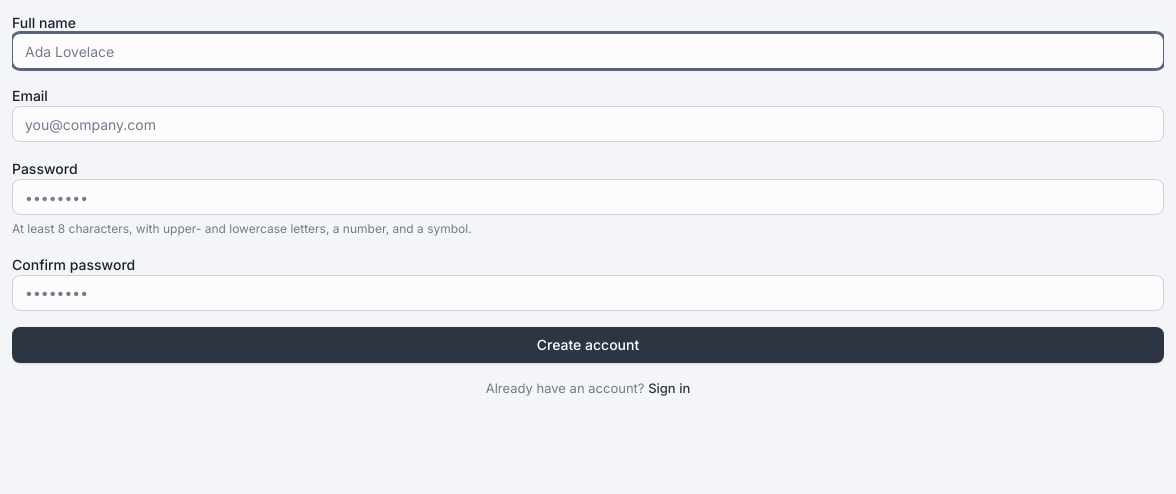
Scenario: RegisterForm › requires a first and last name
The image size is (1176, 494).
Type "Ada" into the field labelled "Full name" at (588, 51), box [12,33,1164,69]
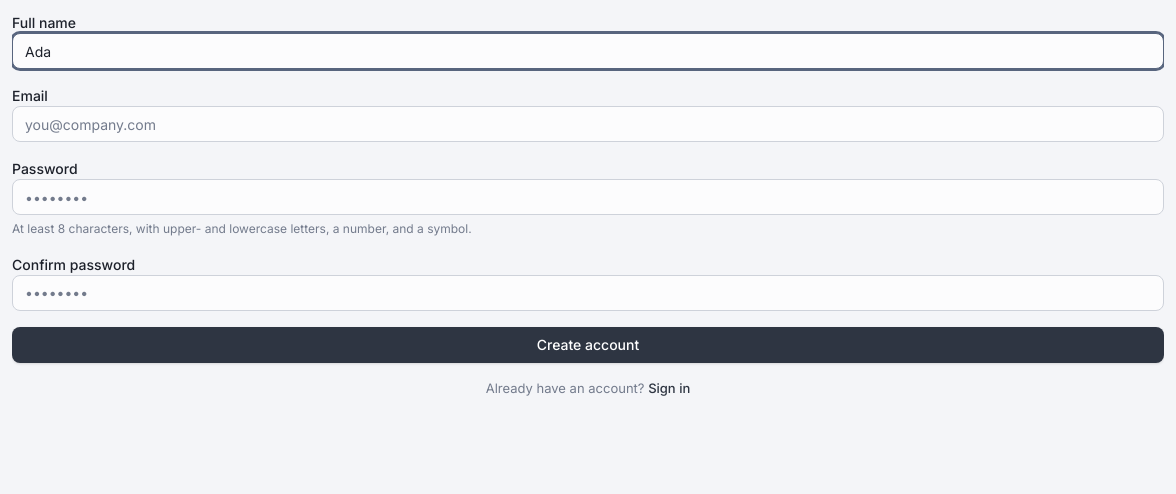
Click the button "Create account" at (588, 345), box [12,327,1164,363]
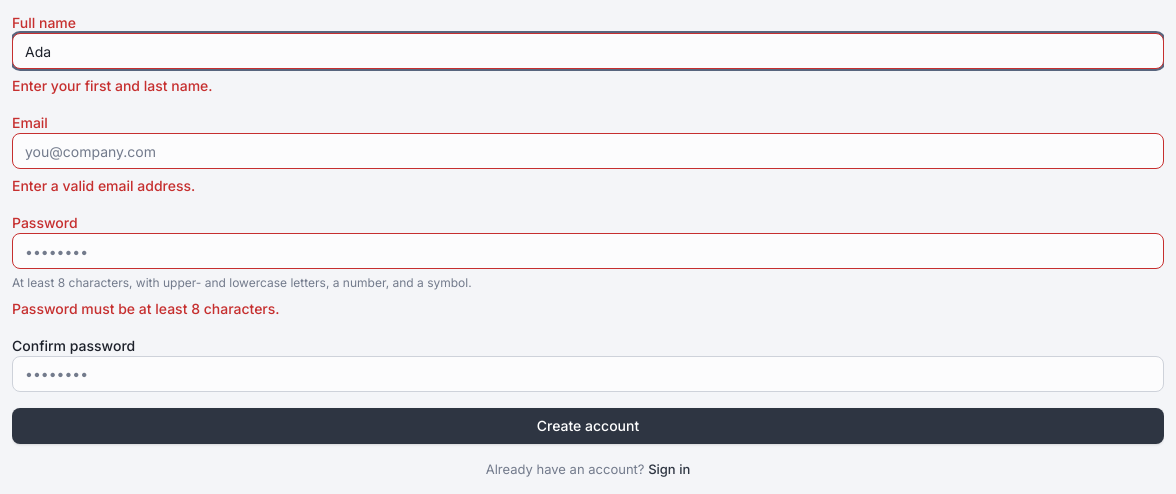
Result: the text "Enter your first and last name." is shown at [12,77,213,94]
